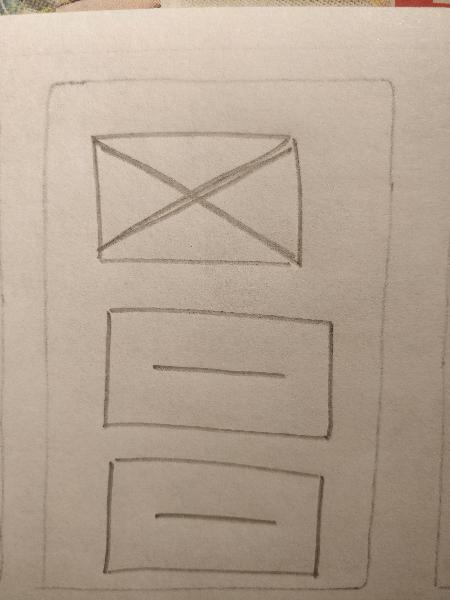button: (90, 295, 345, 449), (94, 454, 332, 585)
image: (80, 116, 310, 279)
